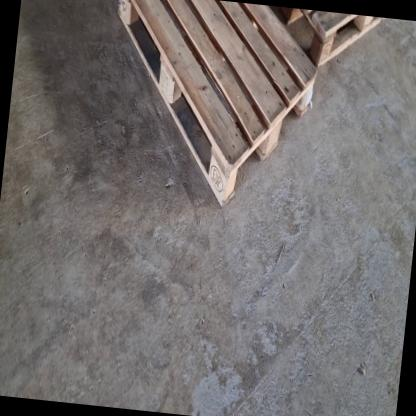BoxFace: (116, 0, 318, 211), (276, 6, 384, 64)
